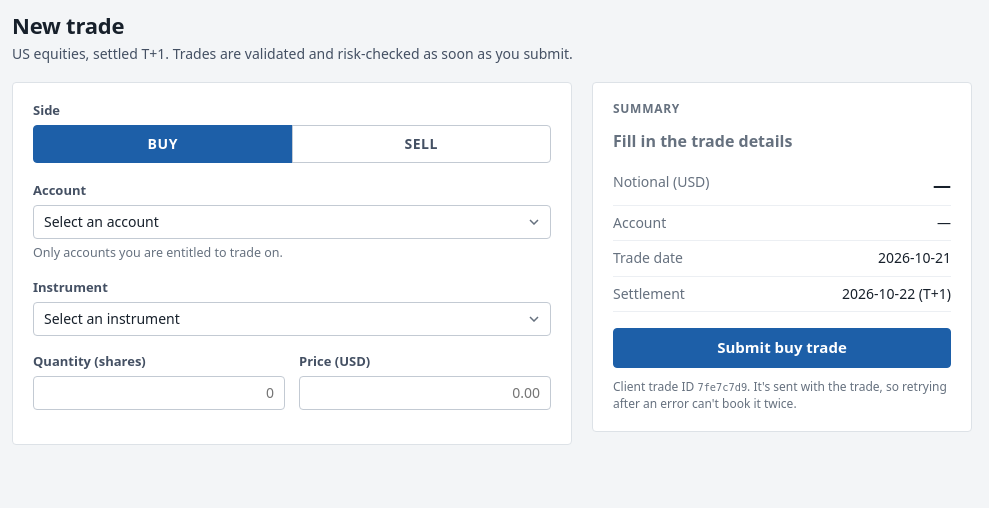
Test case: new trade form › doesn't round a long fractional quantity to a whole number
Step 1. Select "ACC-1001 · Harbor Growth Fund" in the dropdown labelled "Account" → (292, 222), box [33, 205, 551, 239]
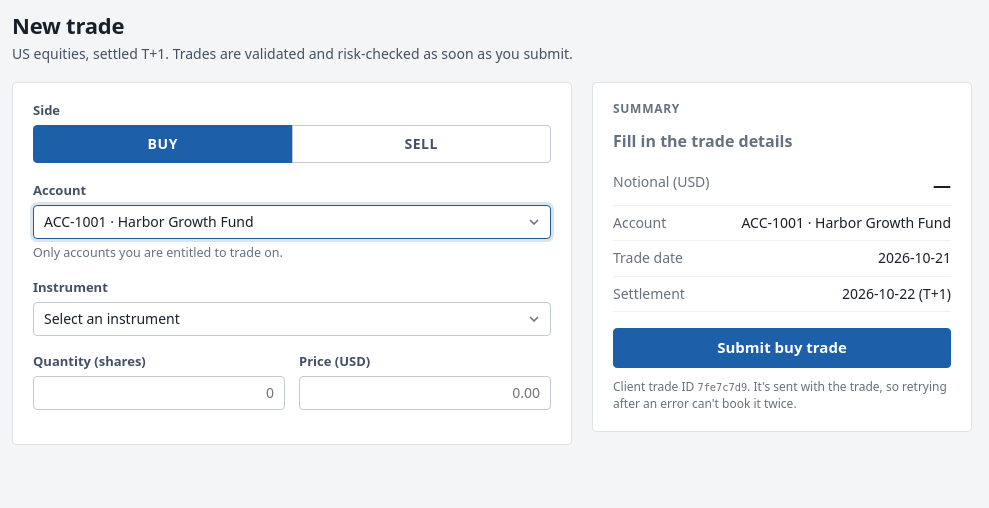
Step 2. Select "AAPL · Apple Inc." in the dropdown labelled "Instrument" → (292, 319), box [33, 302, 551, 336]
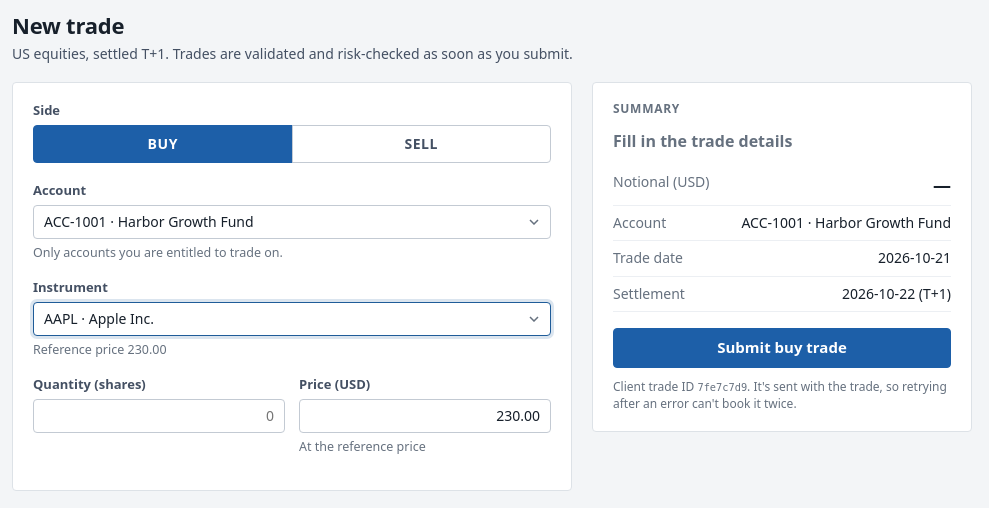
Step 3. Type "1.0000000000000001" into the field labelled "Quantity (shares)" → (159, 416), box [33, 399, 285, 433]
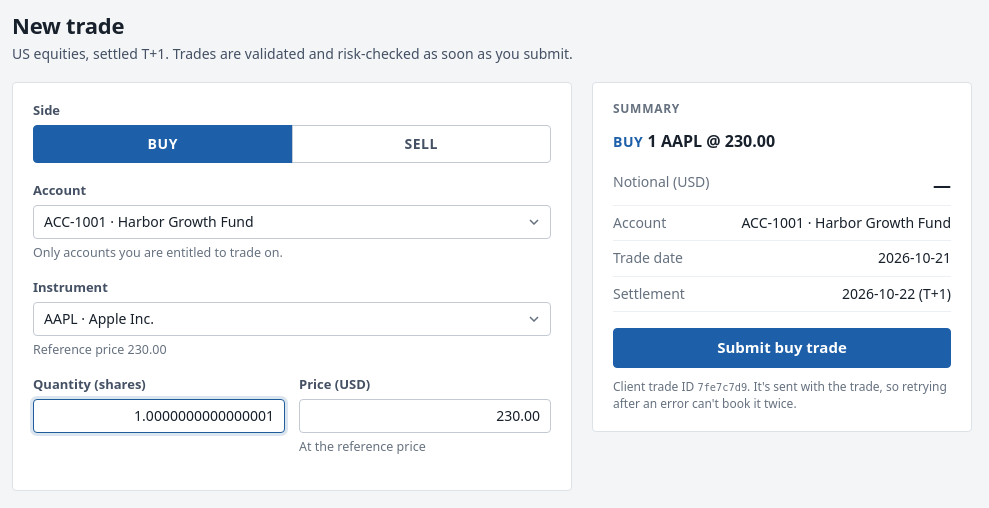
Step 4. Click the button "Submit buy trade" → (782, 348), box [613, 328, 951, 368]
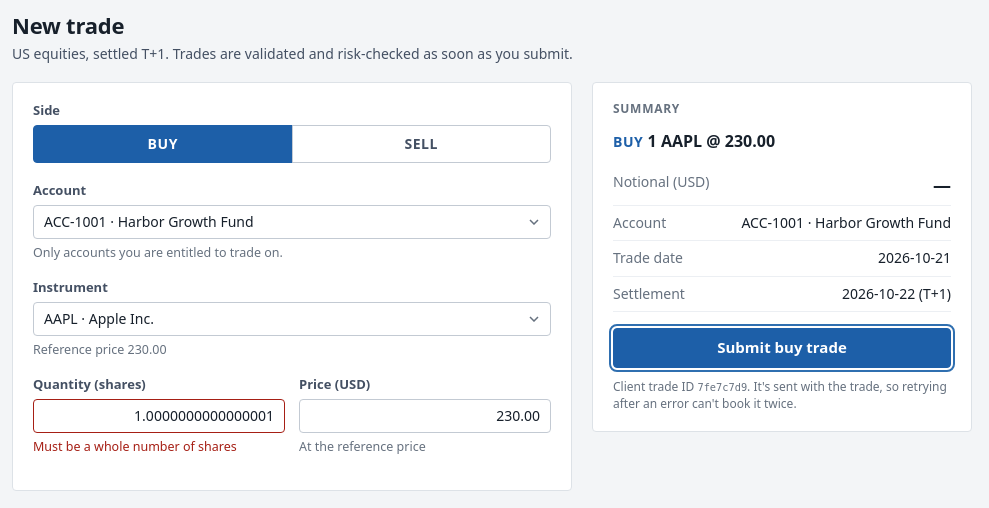
Now the text "Must be a whole number of shares" is shown, box [33, 438, 237, 455]
